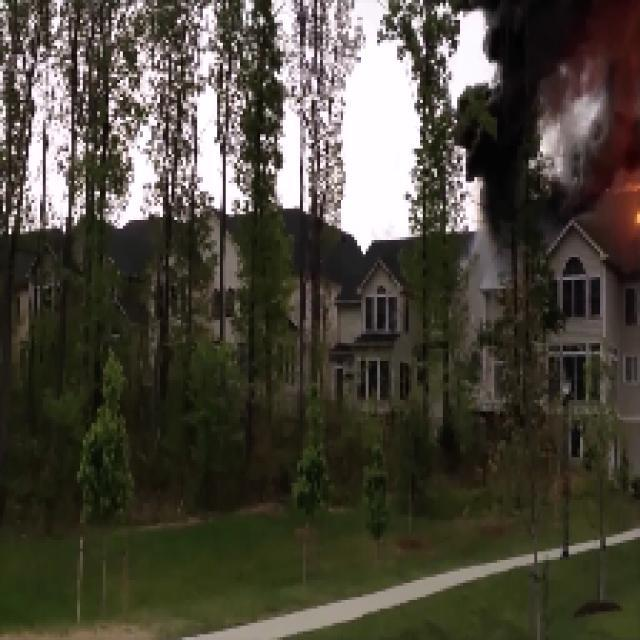Smoke: (490, 6, 634, 184)
